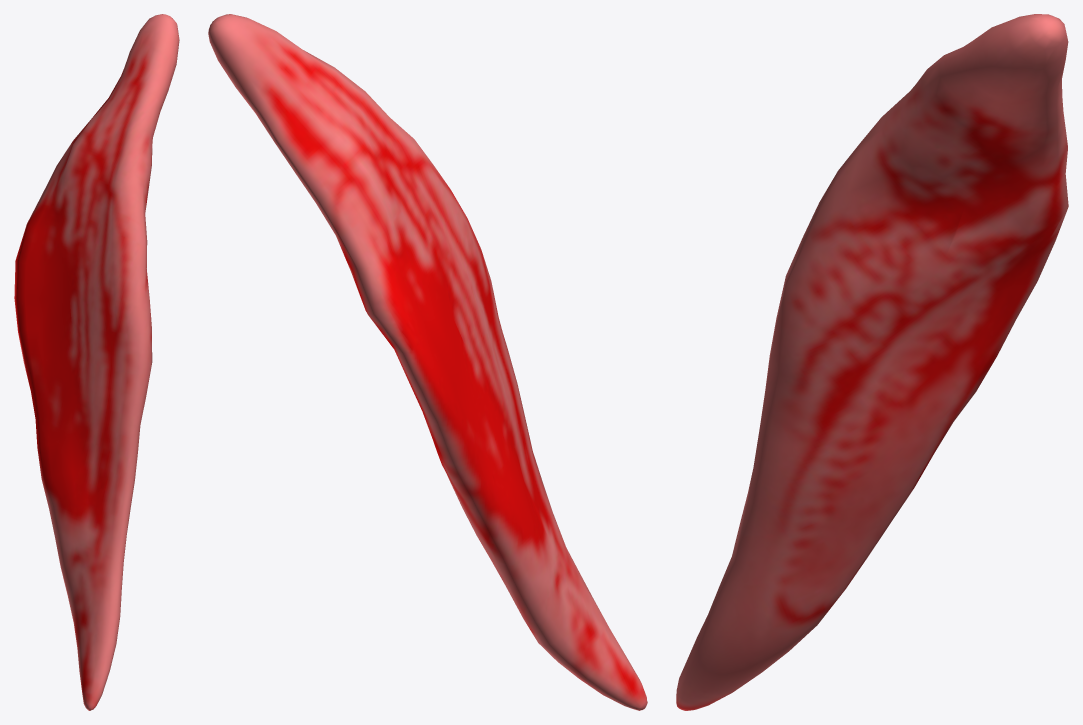
File: Deltoid.glb
3 views of the same model, side by side, from view 1: azimuth 30°, elevation 25°; view 2: azimuth 150°, elevation 25°; view 3: azimuth 270°, elevation 25° (orthographic). The views are drawn at different scales.
Visible parts, largest first — view 1: MuscleDeltoid_R1.006; view 2: MuscleDeltoid_R1.006; view 3: MuscleDeltoid_R1.006.
Boxes of the visible parts, x1,y1,x2,y2 form: MuscleDeltoid_R1.006: [14, 14, 179, 710]; MuscleDeltoid_R1.006: [208, 14, 647, 710]; MuscleDeltoid_R1.006: [676, 14, 1068, 710].
Size of the model in its own units: 0.1345 by 0.3471 by 0.1479.
Materials: 1 (1 with a texture image).
